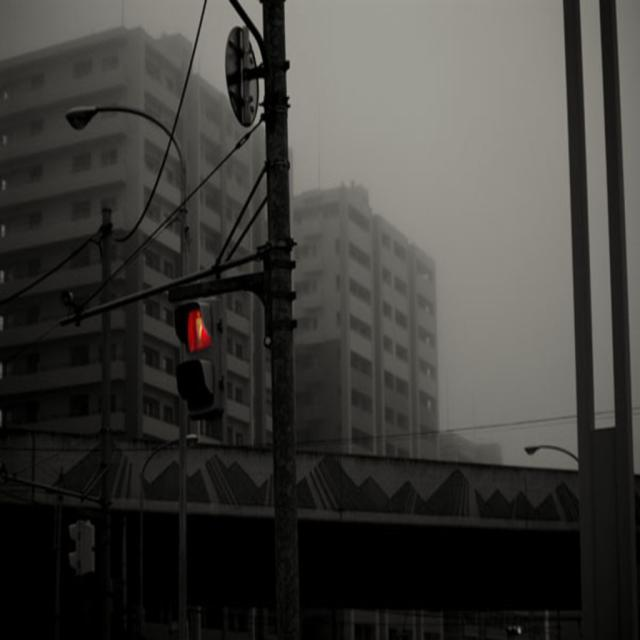traffic light: (171, 302, 224, 420)
